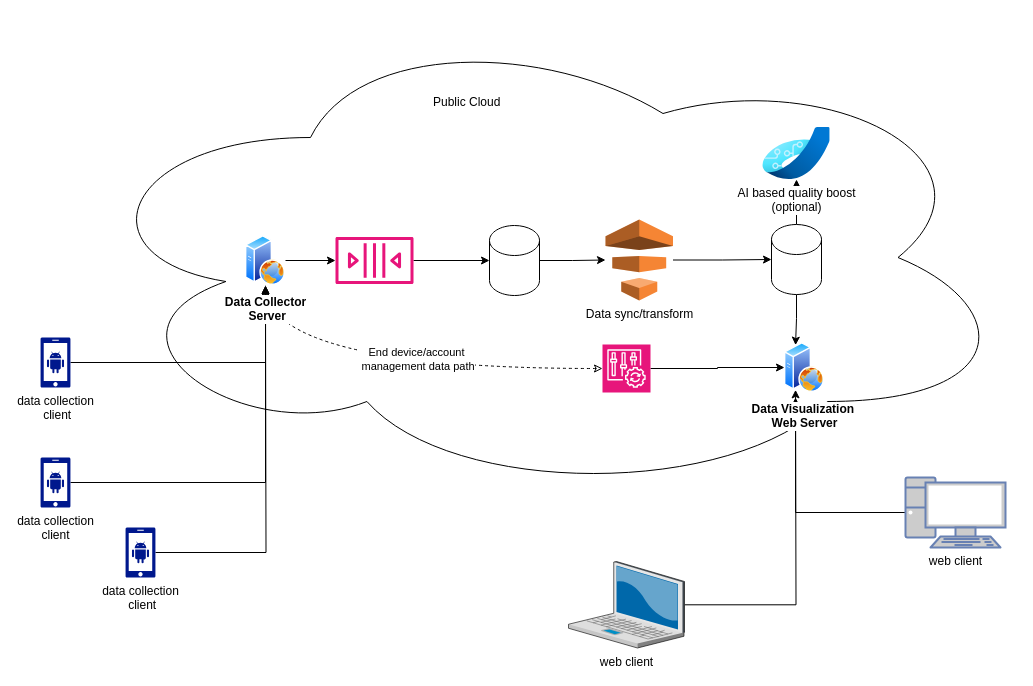
Image size: 1033x686. Some labels were removed from this diagram. The shapes that lost their labels are listed below. From the top down, each one's centre as x and y in pixels, then its label:
At point (374, 260): "Queue service".
At point (514, 260): "DB-1 (raw data)".
At point (796, 259): "DB-2 Processed data".
At point (626, 368): "Client Config".
